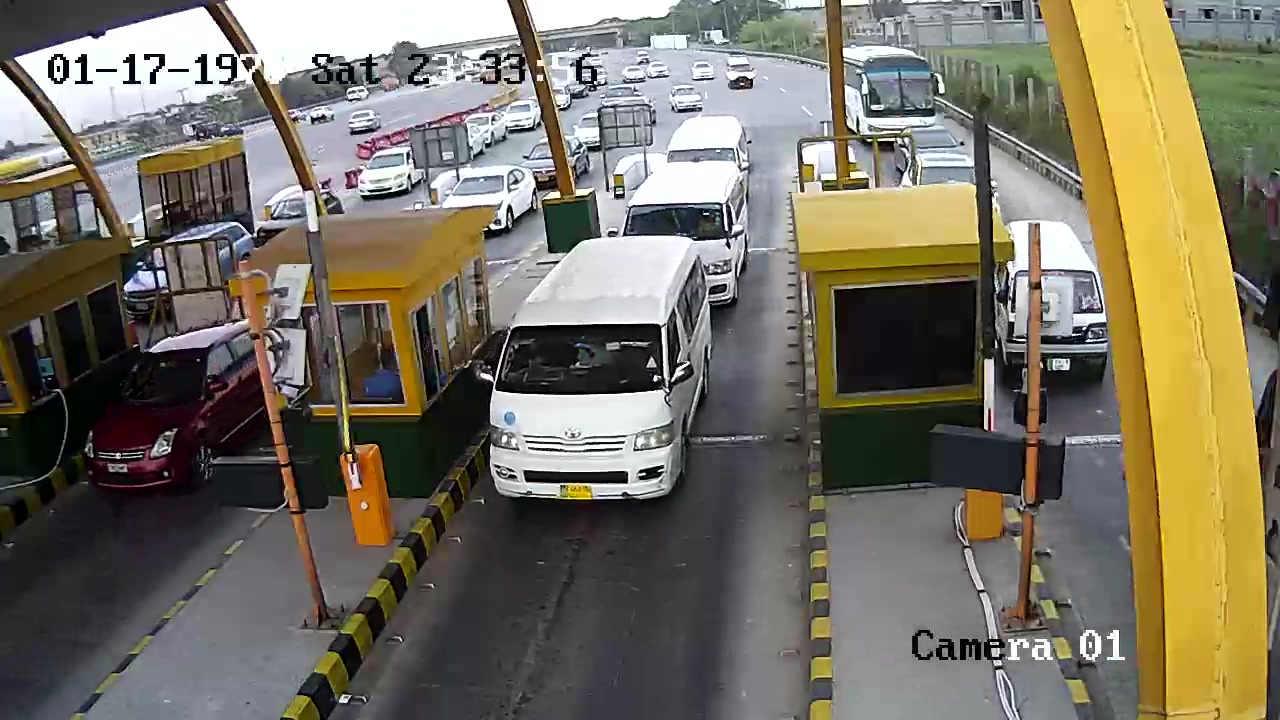F3: (482, 232, 717, 507)
